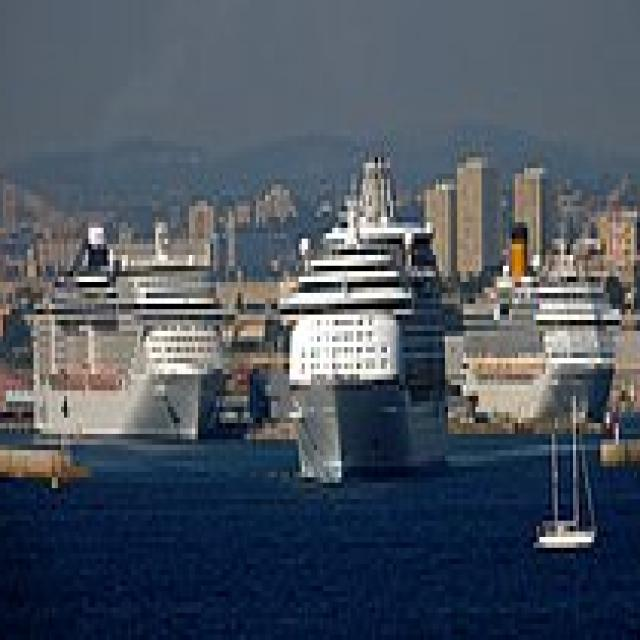Cruise: (278, 146, 467, 483), (24, 217, 241, 439), (460, 211, 625, 434)
